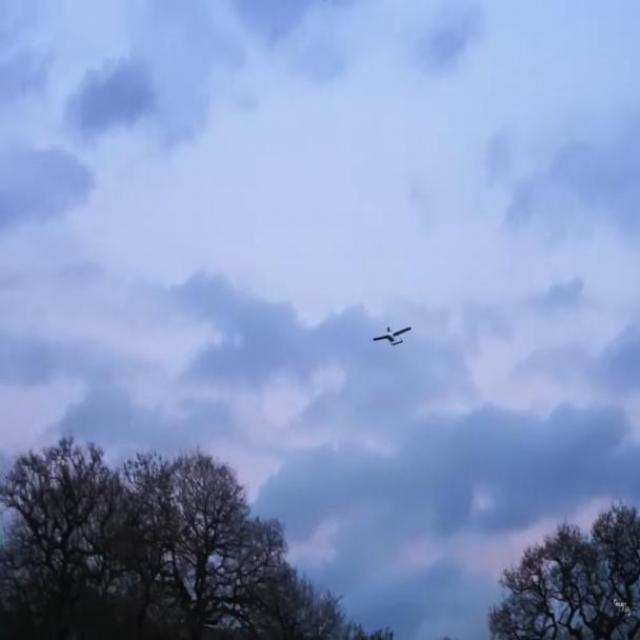iha: (366, 318, 411, 355)
